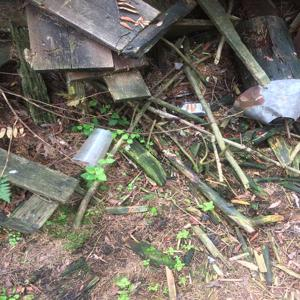cardboard: (172, 98, 216, 119)
metal: (232, 72, 298, 128)
plastic: (69, 127, 119, 171)
